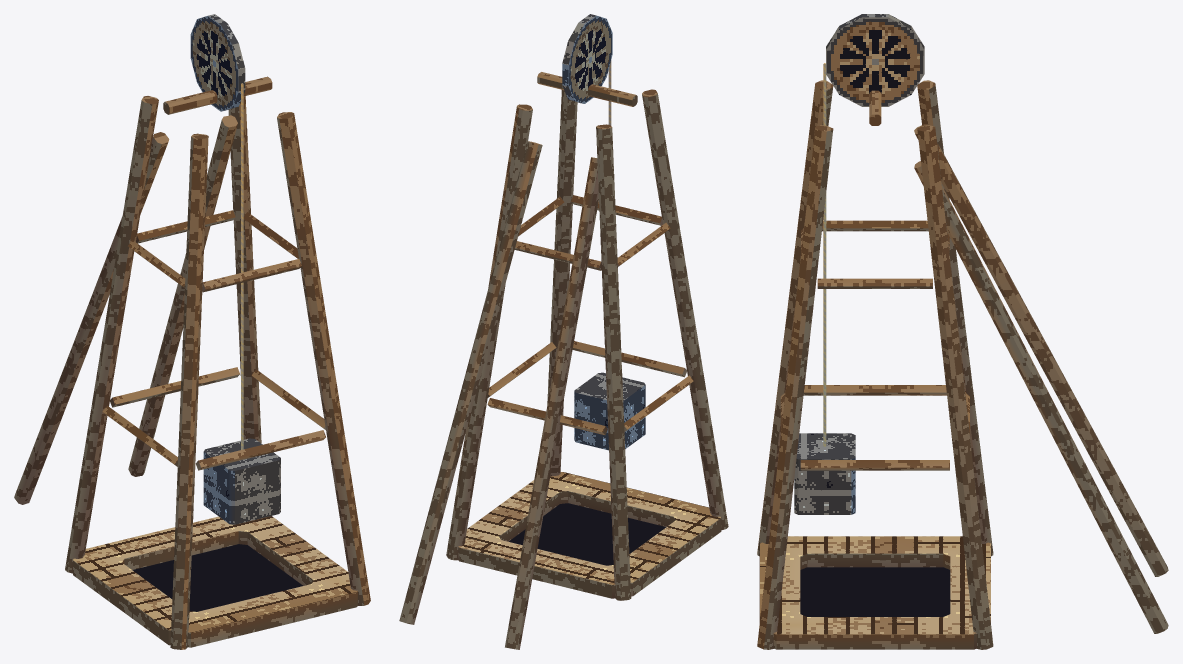
Rendered from wmine.headframe.glb.
The picture shows the model from 3 angles, left to right: view 1: azimuth 30°, elevation 25°; view 2: azimuth 150°, elevation 25°; view 3: azimuth 270°, elevation 25°; orthographic projection. The views are drawn at different scales.
Parts seen in each view (by area): view 1: kit_legs, kit_collar, kit_backs, kit_girts, kit_card_shaft, kit_cage, kit_sheave, kit_sheave_axle, kit_rope; view 2: kit_legs, kit_backs, kit_collar, kit_girts, kit_card_shaft, kit_sheave, kit_cage, kit_sheave_axle; view 3: kit_legs, kit_backs, kit_collar, kit_card_shaft, kit_sheave, kit_girts, kit_cage, kit_rope.
Boxes of the visible parts, <box> form: kit_legs: <box>65,96,370,649</box>; kit_collar: <box>73,516,357,647</box>; kit_backs: <box>14,115,237,504</box>; kit_girts: <box>102,210,325,470</box>; kit_card_shaft: <box>132,544,302,611</box>; kit_cage: <box>203,438,280,524</box>; kit_sheave: <box>190,14,245,111</box>; kit_sheave_axle: <box>163,76,272,114</box>; kit_rope: <box>241,83,243,449</box>; kit_legs: <box>446,89,728,600</box>; kit_backs: <box>399,141,598,649</box>; kit_collar: <box>458,472,721,598</box>; kit_girts: <box>487,195,693,435</box>; kit_card_shaft: <box>508,503,665,565</box>; kit_sheave: <box>562,14,612,103</box>; kit_cage: <box>574,372,645,450</box>; kit_sheave_axle: <box>537,72,637,106</box>; kit_legs: <box>757,80,993,649</box>; kit_backs: <box>914,124,1168,633</box>; kit_collar: <box>759,536,990,649</box>; kit_card_shaft: <box>800,567,950,616</box>; kit_sheave: <box>826,14,924,106</box>; kit_girts: <box>780,220,969,470</box>; kit_cage: <box>794,433,855,514</box>; kit_rope: <box>823,63,826,446</box>.
Bounding box in the file's own units: 3.46 × 9.52 × 6.04.
6 materials, 6 textured.
